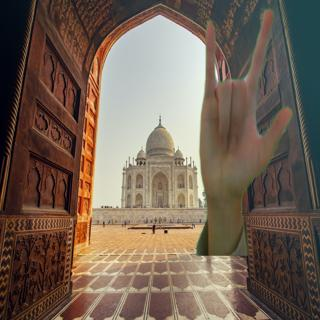ILY: (196, 7, 295, 209)
